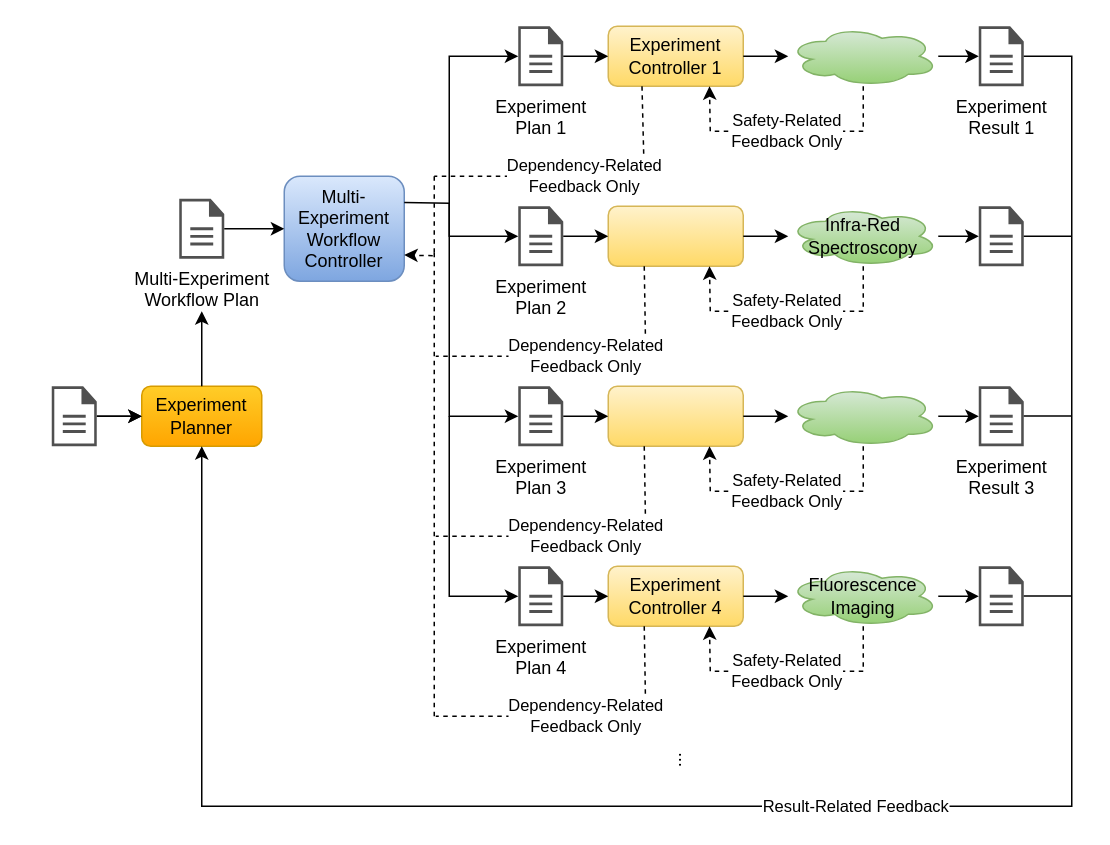
The diagram is 1110 pixels wide and 845 high, and some of its shapes have lost their labels. Here are the shapes that lost their labels. From the top down, the centre of each, then its label:
(x=862, y=55): Synthesis
(x=675, y=235): Experiment Controller 2
(x=1000, y=236): Experiment Result 2
(x=73, y=416): Experiment Design Plan
(x=675, y=415): Experiment Controller 3
(x=862, y=415): Raman Spectroscopy
(x=1000, y=596): Experiment Result 4
